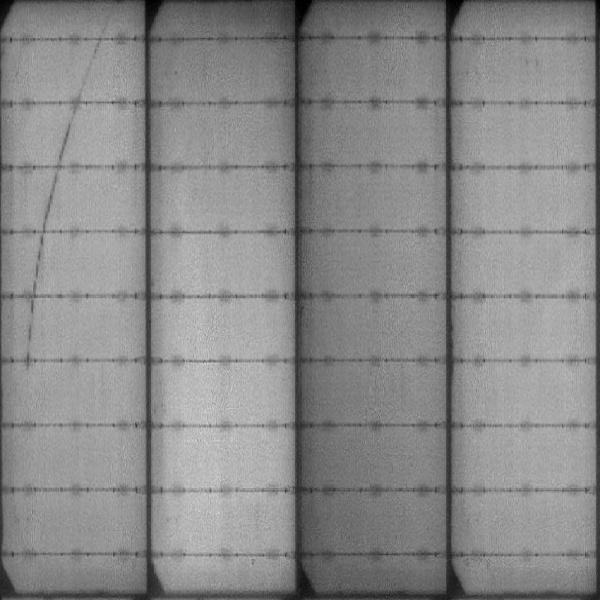scratch: (78, 39, 104, 99), (56, 104, 82, 163), (39, 169, 64, 230), (20, 304, 40, 356), (33, 232, 48, 290)
